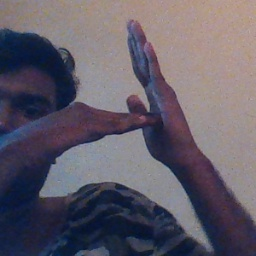Z: (74, 16, 197, 175)
